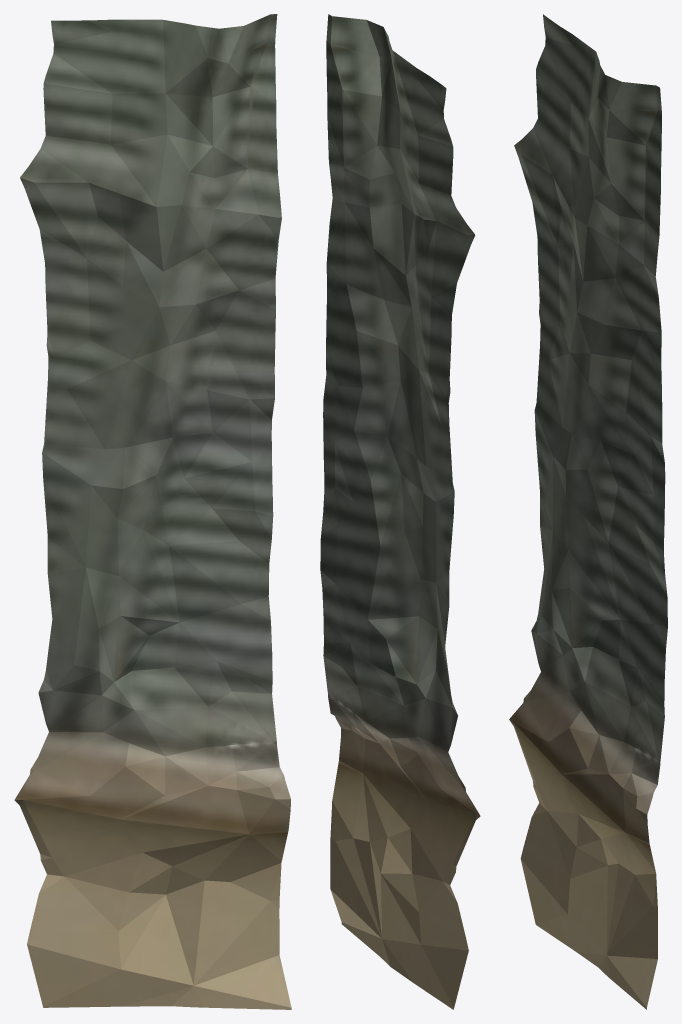
3 renders of one model, left to right at view 1: azimuth 30°, elevation 25°; view 2: azimuth 150°, elevation 25°; view 3: azimuth 330°, elevation 25°, orthographic. The views are drawn at different scales.
Size of the model in its own units: 0.3789 by 1.67 by 0.1977.
Materials: 1 (1 with a texture image).
